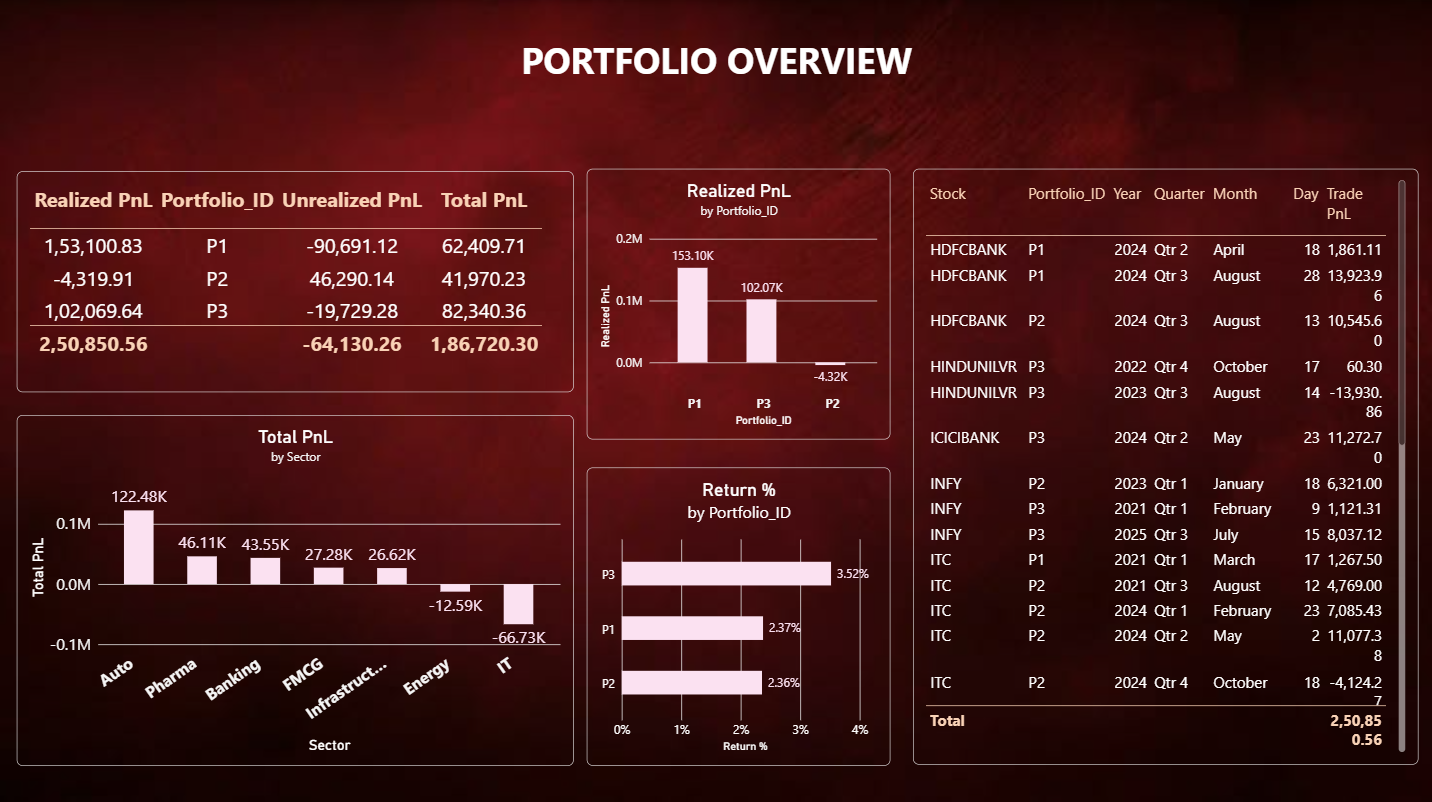

What the dashboard file says about the page in this screenshot:
{"tool":"powerbi","page":{"name":"portfolio overview","canvas":[1920,1080],"ordinal":0},"visuals":[{"type":"clusteredColumnChart","fields":{"Category":["transactions.Portfolio_ID"],"Y":["transactions.Realized PnL"]},"box":[787.2,226.2,405.4,361.9],"z":0},{"type":"textbox","box":[0,29,1920.1,119.4],"z":1000},{"type":"tableEx","fields":{"Values":["transactions.Realized PnL","transactions.Portfolio_ID","transactions.Unrealized PnL","transactions.Total PnL"]},"box":[25.3,228,743.8,295],"z":2000},{"type":"clusteredBarChart","fields":{"Category":["transactions.Portfolio_ID"],"Y":["transactions.Return %"]},"box":[787.2,624.3,405.4,398.1],"z":4000},{"type":"clusteredColumnChart","fields":{"Category":["Stocks.Sector"],"Y":["transactions.Total PnL"]},"box":[25.3,553.8,743.8,468.7],"z":5000},{"type":"tableEx","fields":{"Values":["transactions.Stock","transactions.Portfolio_ID","transactions.Buy_Date.Variation.Date Hierarchy.Year","transactions.Buy_Date.Variation.Date Hierarchy.Quarter","transactions.Buy_Date.Variation.Date Hierarchy.Month","transactions.Buy_Date.Variation.Date Hierarchy.Day","transactions.Trade PnL"]},"box":[1221.5,226.2,675,796.3],"z":5001}]}

Visuals, with their boxes in screenshot pixels (x1, y1, x2, y2), scaled from the page's 1920x1080 canvas onto the 1432x802 screenshot:
clusteredColumnChart - transactions.Portfolio_ID x transactions.Realized PnL: l=587, t=168, r=889, b=437
textbox: l=0, t=22, r=1431, b=110
tableEx - transactions.Realized PnL x transactions.Portfolio_ID: l=19, t=169, r=574, b=388
clusteredBarChart - transactions.Portfolio_ID x transactions.Return %: l=587, t=464, r=889, b=759
clusteredColumnChart - Stocks.Sector x transactions.Total PnL: l=19, t=411, r=574, b=759
tableEx - transactions.Stock x transactions.Portfolio_ID: l=911, t=168, r=1414, b=759
